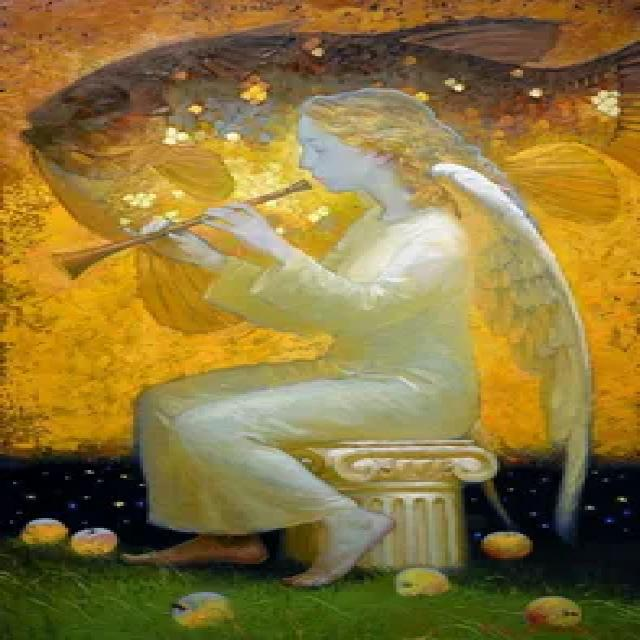angel: (47, 80, 617, 589)
